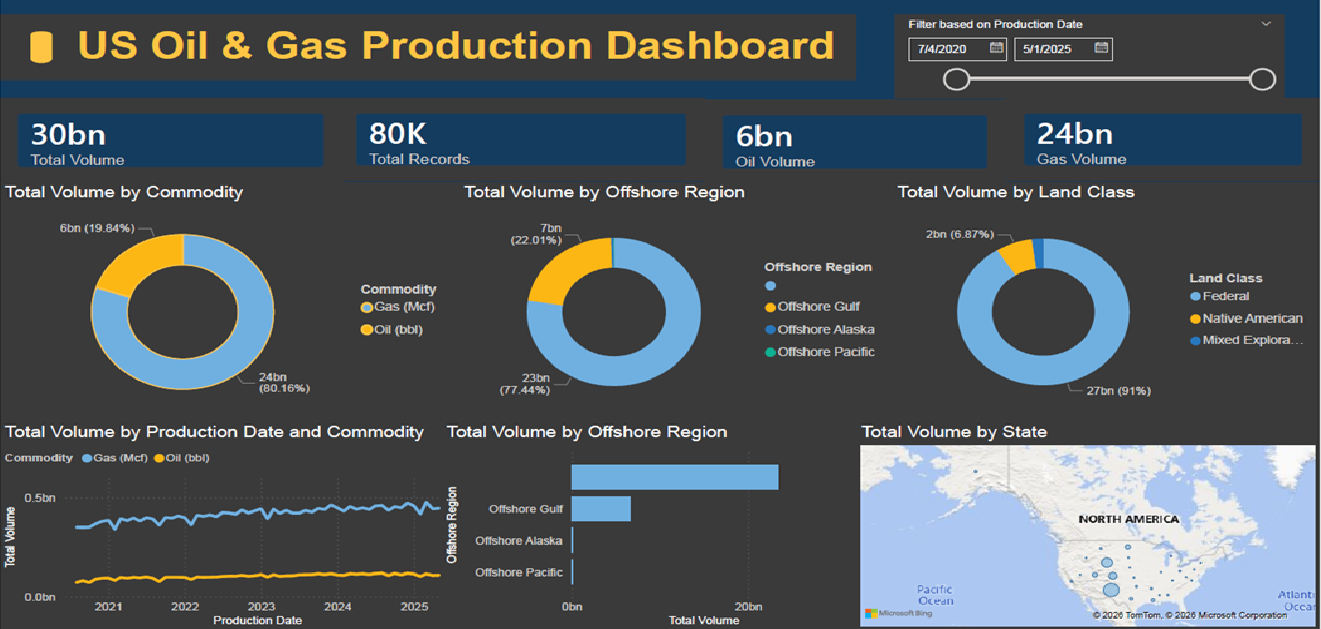

The dashboard page shown, as its layout file describes it:
{"tool":"powerbi","page":{"name":"Dashboard","canvas":[1280,720],"ordinal":0},"visuals":[{"type":"cardVisual","fields":{"Data":["OGORBcsv.Total Volume"]},"box":[0,112.5,332.5,97.5],"z":0},{"type":"cardVisual","fields":{"Data":["OGORBcsv.Total Records"]},"box":[327.5,112.5,355,95],"z":1000},{"type":"cardVisual","fields":{"Data":["OGORBcsv.Oil Volume"]},"box":[682.5,115,292.5,97.5],"z":2000},{"type":"cardVisual","fields":{"Data":["OGORBcsv.Gas Volume"]},"box":[975,112.5,305,95],"z":3000},{"type":"donutChart","fields":{"Category":["OGORBcsv.Commodity"],"Y":["OGORBcsv.Total Volume"]},"box":[0,210,445,272.5],"z":4000},{"type":"donutChart","fields":{"Category":["OGORBcsv.Offshore Region"],"Y":["OGORBcsv.Total Volume"]},"box":[445,210,420,272.5],"z":5000},{"type":"donutChart","fields":{"Category":["OGORBcsv.Land Class"],"Y":["OGORBcsv.Total Volume"]},"box":[865,210,415,272.5],"z":6000},{"type":"lineChart","fields":{"Y":["OGORBcsv.Total Volume"],"Series":["OGORBcsv.Commodity"],"Category":["OGORBcsv.Production Date"]},"box":[0,482.5,445,237.5],"z":7000},{"type":"clusteredBarChart","fields":{"Category":["OGORBcsv.Offshore Region"],"Y":["OGORBcsv.Total Volume"]},"box":[427.5,482.5,402.5,237.5],"z":8000},{"type":"map","fields":{"Category":["OGORBcsv.State"],"Size":["OGORBcsv.Total Volume"]},"box":[830,482.5,450,237.5],"z":9000},{"type":"slicer","fields":{"Values":["OGORBcsv.Production Date"]},"box":[867.5,17.5,377.5,95],"z":10000},{"type":"textbox","box":[0,17.5,830,75],"z":11000}]}

Visuals, with their boxes on the page's 1280x720 design canvas (x1, y1, x2, y2). These are canvas units, not pixel positions in the 1321x629 screenshot, which may show the page scaled, cropped or inside an application window:
cardVisual - OGORBcsv.Total Volume: (left=0, top=112, right=332, bottom=210)
cardVisual - OGORBcsv.Total Records: (left=328, top=112, right=682, bottom=208)
cardVisual - OGORBcsv.Oil Volume: (left=682, top=115, right=975, bottom=212)
cardVisual - OGORBcsv.Gas Volume: (left=975, top=112, right=1280, bottom=208)
donutChart - OGORBcsv.Commodity x OGORBcsv.Total Volume: (left=0, top=210, right=445, bottom=482)
donutChart - OGORBcsv.Offshore Region x OGORBcsv.Total Volume: (left=445, top=210, right=865, bottom=482)
donutChart - OGORBcsv.Land Class x OGORBcsv.Total Volume: (left=865, top=210, right=1280, bottom=482)
lineChart - OGORBcsv.Total Volume x OGORBcsv.Commodity: (left=0, top=482, right=445, bottom=720)
clusteredBarChart - OGORBcsv.Offshore Region x OGORBcsv.Total Volume: (left=428, top=482, right=830, bottom=720)
map - OGORBcsv.State x OGORBcsv.Total Volume: (left=830, top=482, right=1280, bottom=720)
slicer - OGORBcsv.Production Date: (left=868, top=18, right=1245, bottom=112)
textbox: (left=0, top=18, right=830, bottom=92)
